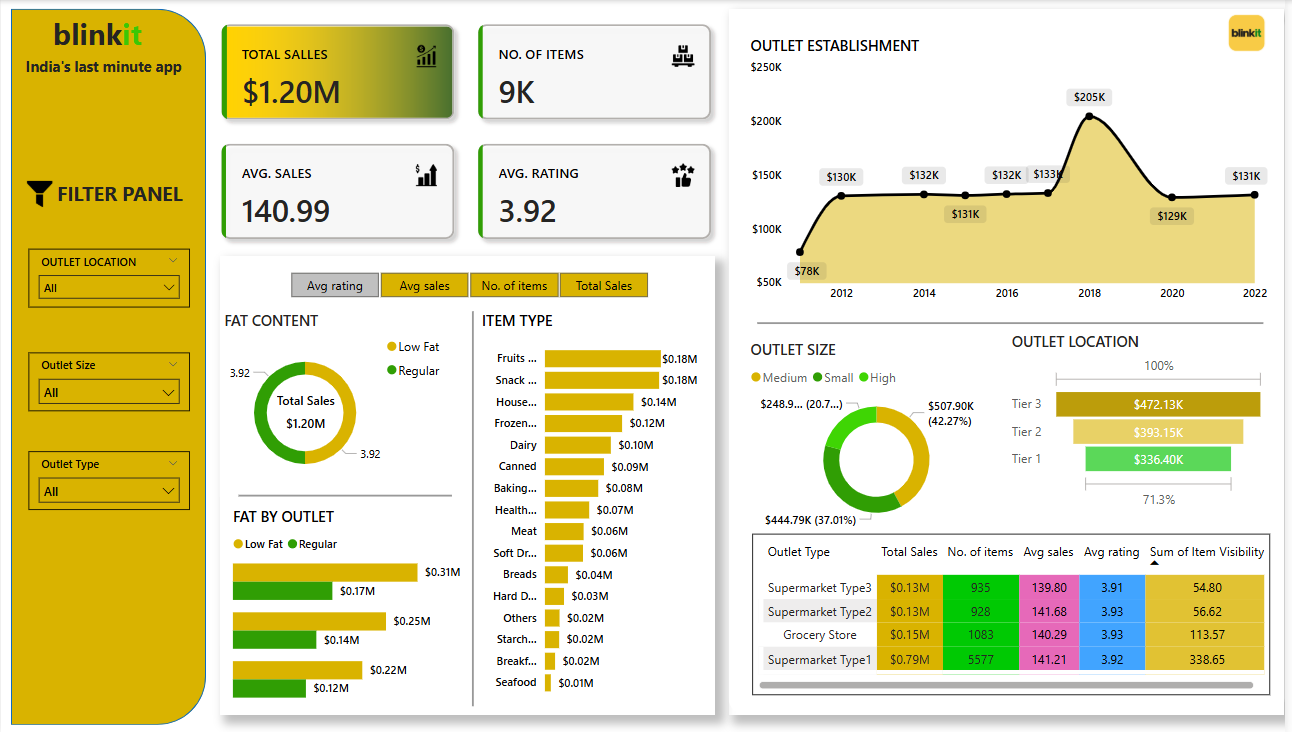

Layout of this report page (visuals, bound fields, positions):
{"tool":"powerbi","page":{"name":"Page 1","canvas":[1400,800],"ordinal":0},"visuals":[{"type":"shape","box":[10.9,9.5,212.7,781.2],"z":0},{"type":"textbox","box":[21.8,55.9,190.9,45],"z":1000},{"type":"textbox","box":[51.8,9.5,129.5,57.3],"z":2000},{"type":"cardVisual","fields":{"Data":["BlinkIT Grocery Data.Total Sales","BlinkIT Grocery Data.No. of items","BlinkIT Grocery Data.Avg sales","BlinkIT Grocery Data.Avg rating"]},"box":[223.6,9.5,569.9,269.9],"z":3000},{"type":"shape","box":[238.6,279.5,539.9,500.3],"z":4000},{"type":"donutChart","title":"FAT CONTENT","fields":{"Y":["BlinkIT Grocery Data.Avg rating"],"Category":["BlinkIT Grocery Data.Item Fat Content"]},"box":[238.6,338.1,253.6,203.1],"z":5000},{"type":"slicer","fields":{"Values":["Metrics.Metrics"]},"box":[290.4,290.4,439,36.8],"z":6000},{"type":"cardVisual","fields":{"Data":["BlinkIT Grocery Data.Total Sales"]},"box":[275.4,410.4,114.5,77.7],"z":7000},{"type":"clusteredBarChart","title":"FAT BY OUTLET","fields":{"Y":["BlinkIT Grocery Data.Total Sales"],"Category":["BlinkIT Grocery Data.Outlet Location Type"],"Series":["BlinkIT Grocery Data.Item Fat Content"]},"box":[248.1,552.2,260.4,216.8],"z":8000},{"type":"shape","box":[793.5,9.5,606.7,770.3],"z":9000},{"type":"barChart","title":"ITEM TYPE","fields":{"Category":["BlinkIT Grocery Data.Item Type"],"Y":["BlinkIT Grocery Data.Total Sales"]},"box":[519.4,338.1,245.4,430.8],"z":10000},{"type":"lineChart","title":"OUTLET ESTABLISHMENT","fields":{"Y":["BlinkIT Grocery Data.Total Sales"],"Category":["BlinkIT Grocery Data.Outlet Establishment Year"]},"box":[812.5,38.2,574,299.9],"z":11000},{"type":"shape","box":[505.8,339.5,17.7,430.8],"z":12000},{"type":"shape","box":[259,526.2,233.1,28.6],"z":13000},{"type":"donutChart","title":"OUTLET SIZE","fields":{"Category":["BlinkIT Grocery Data.Outlet Size"],"Y":["BlinkIT Grocery Data.Total Sales"]},"box":[812.5,369.5,284.9,212.7],"z":14000},{"type":"funnel","title":"OUTLET LOCATION","fields":{"Category":["BlinkIT Grocery Data.Outlet Location Type"],"Y":["BlinkIT Grocery Data.Total Sales"]},"box":[1097.5,361.3,286.3,197.7],"z":15000},{"type":"shape","box":[824.8,343.6,552.2,17.7],"z":16000},{"type":"tableEx","fields":{"Values":["BlinkIT Grocery Data.Outlet Type","BlinkIT Grocery Data.Total Sales","BlinkIT Grocery Data.No. of items","BlinkIT Grocery Data.Avg sales","BlinkIT Grocery Data.Avg rating","Sum(BlinkIT Grocery Data.Item Visibility)"]},"box":[819.4,582.1,564.4,175.9],"z":17000},{"type":"slicer","fields":{"Values":["BlinkIT Grocery Data.Outlet Location Type"]},"box":[30,271.3,175.9,64.1],"z":17001},{"type":"slicer","fields":{"Values":["BlinkIT Grocery Data.Outlet Size"]},"box":[30,384.5,175.9,64.1],"z":17002},{"type":"slicer","fields":{"Values":["BlinkIT Grocery Data.Outlet Type"]},"box":[30,492.2,175.9,64.1],"z":17003},{"type":"textbox","box":[42.3,190.9,174.5,43.6],"z":17004},{"type":"image","box":[21.8,189.5,40.9,43.6],"z":17005},{"type":"image","box":[1330.6,9.5,55.9,53.2],"z":17008}]}

Visuals, with their boxes in screenshot pixels (x1, y1, x2, y2), scaled from the page's 1400x800 canvas onto the 1292x732 screenshot:
shape: rect(10, 9, 206, 723)
textbox: rect(20, 51, 196, 92)
textbox: rect(48, 9, 167, 61)
cardVisual - BlinkIT Grocery Data.Total Sales x BlinkIT Grocery Data.No. of items: rect(206, 9, 732, 256)
shape: rect(220, 256, 718, 714)
"FAT CONTENT" donutChart: rect(220, 309, 454, 495)
slicer - Metrics.Metrics: rect(268, 266, 673, 299)
cardVisual - BlinkIT Grocery Data.Total Sales: rect(254, 376, 360, 447)
"FAT BY OUTLET" clusteredBarChart: rect(229, 505, 469, 704)
shape: rect(732, 9, 1291, 714)
"ITEM TYPE" barChart: rect(479, 309, 706, 704)
"OUTLET ESTABLISHMENT" lineChart: rect(750, 35, 1280, 309)
shape: rect(467, 311, 483, 705)
shape: rect(239, 481, 454, 508)
"OUTLET SIZE" donutChart: rect(750, 338, 1013, 533)
"OUTLET LOCATION" funnel: rect(1013, 331, 1277, 511)
shape: rect(761, 314, 1271, 331)
tableEx - BlinkIT Grocery Data.Outlet Type x BlinkIT Grocery Data.Total Sales: rect(756, 533, 1277, 694)
slicer - BlinkIT Grocery Data.Outlet Location Type: rect(28, 248, 190, 307)
slicer - BlinkIT Grocery Data.Outlet Size: rect(28, 352, 190, 410)
slicer - BlinkIT Grocery Data.Outlet Type: rect(28, 450, 190, 509)
textbox: rect(39, 175, 200, 215)
image: rect(20, 173, 58, 213)
image: rect(1228, 9, 1280, 57)
